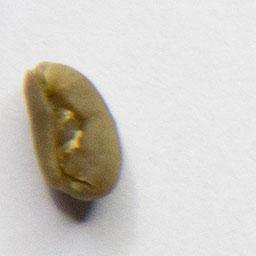peaberry: (21, 58, 128, 204)
